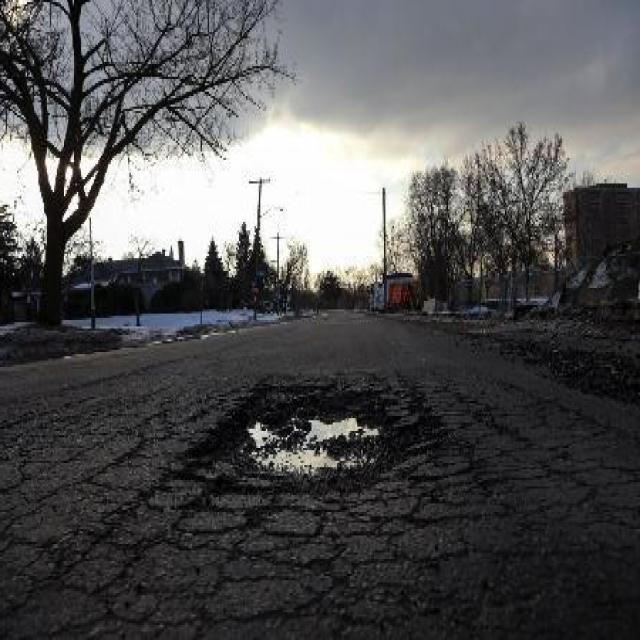Pothole: (190, 383, 418, 496)
